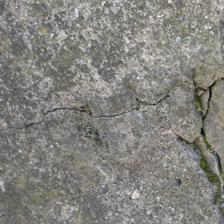Crack: (50, 61, 118, 162), (114, 0, 167, 109)
